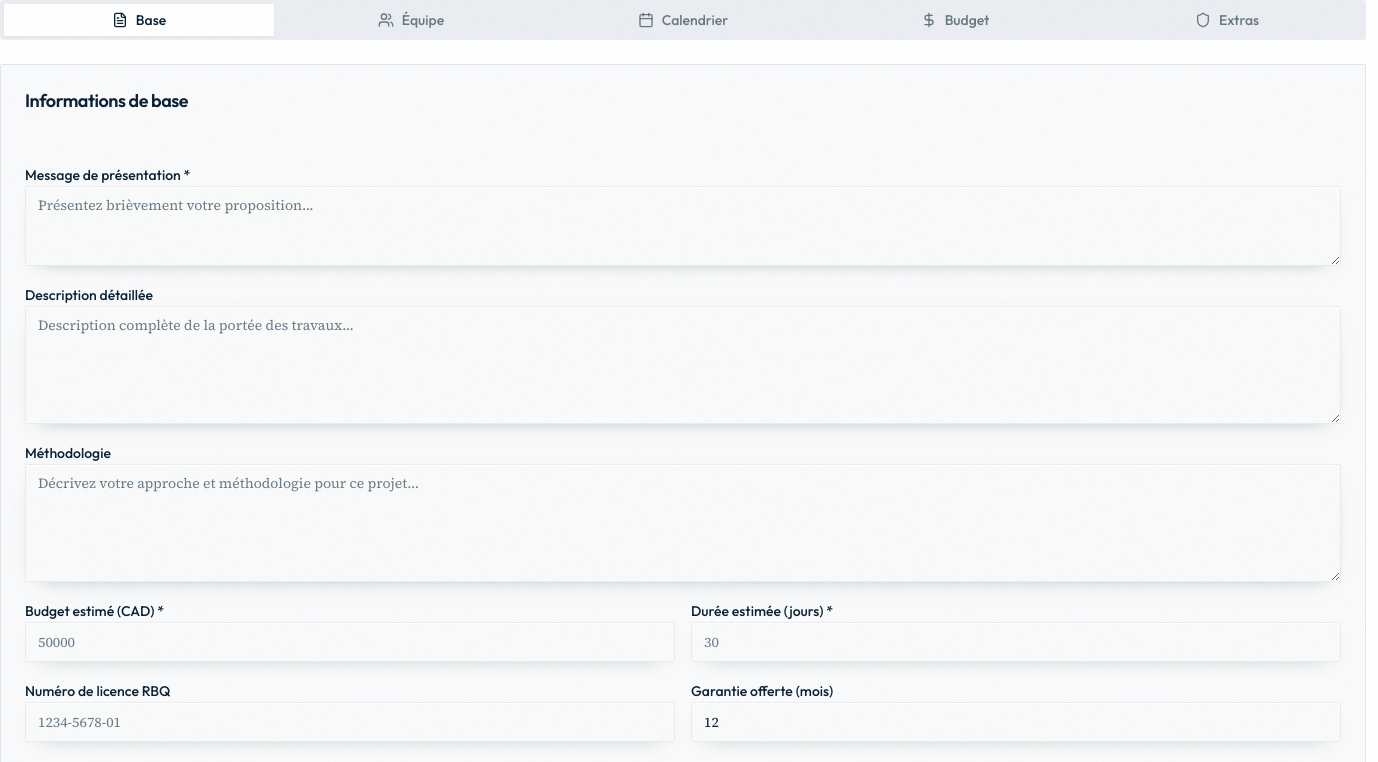
Test: Professional proposal submission › exposes labels for repeated team fields and removal actions
Type "Travaux de rénovation proposés" into the text box labelled "Message de présentation *".
click(683, 226); type("Travaux de rénovation proposés")  # box [25,186,1341,266]
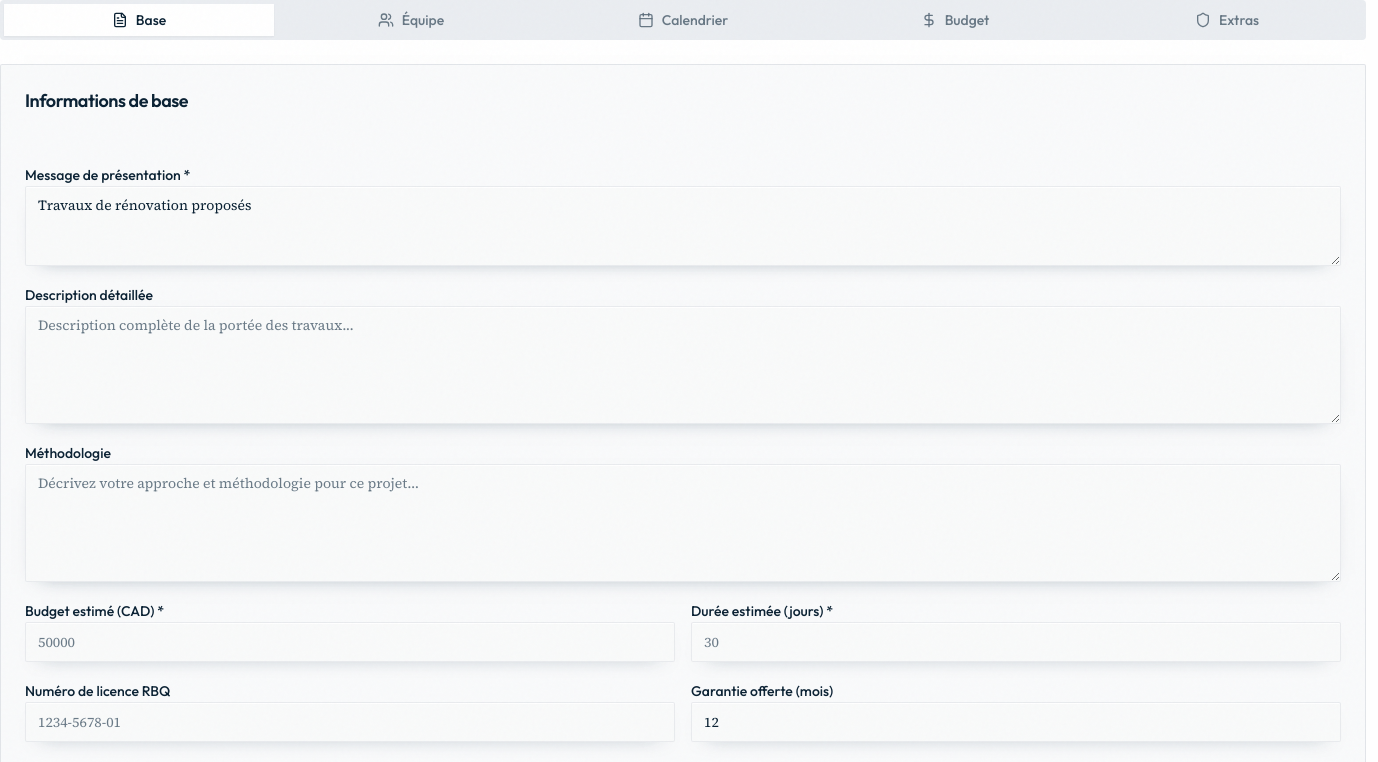
Type "7500" into the number field labelled "Budget estimé (CAD) *".
click(350, 642); type("7500")  # box [25,622,675,662]
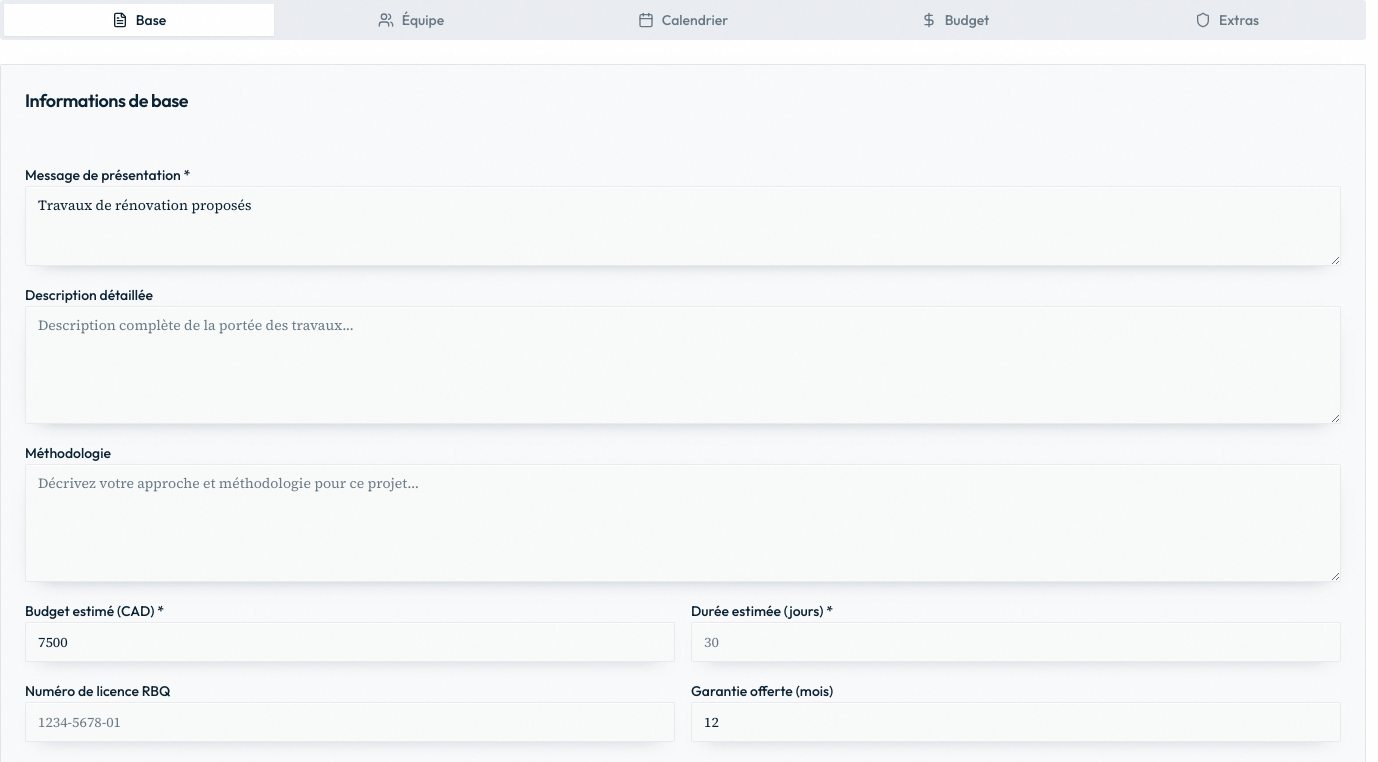
Type "10" into the number field labelled "Durée estimée (jours) *".
click(1016, 642); type("10")  # box [691,622,1341,662]
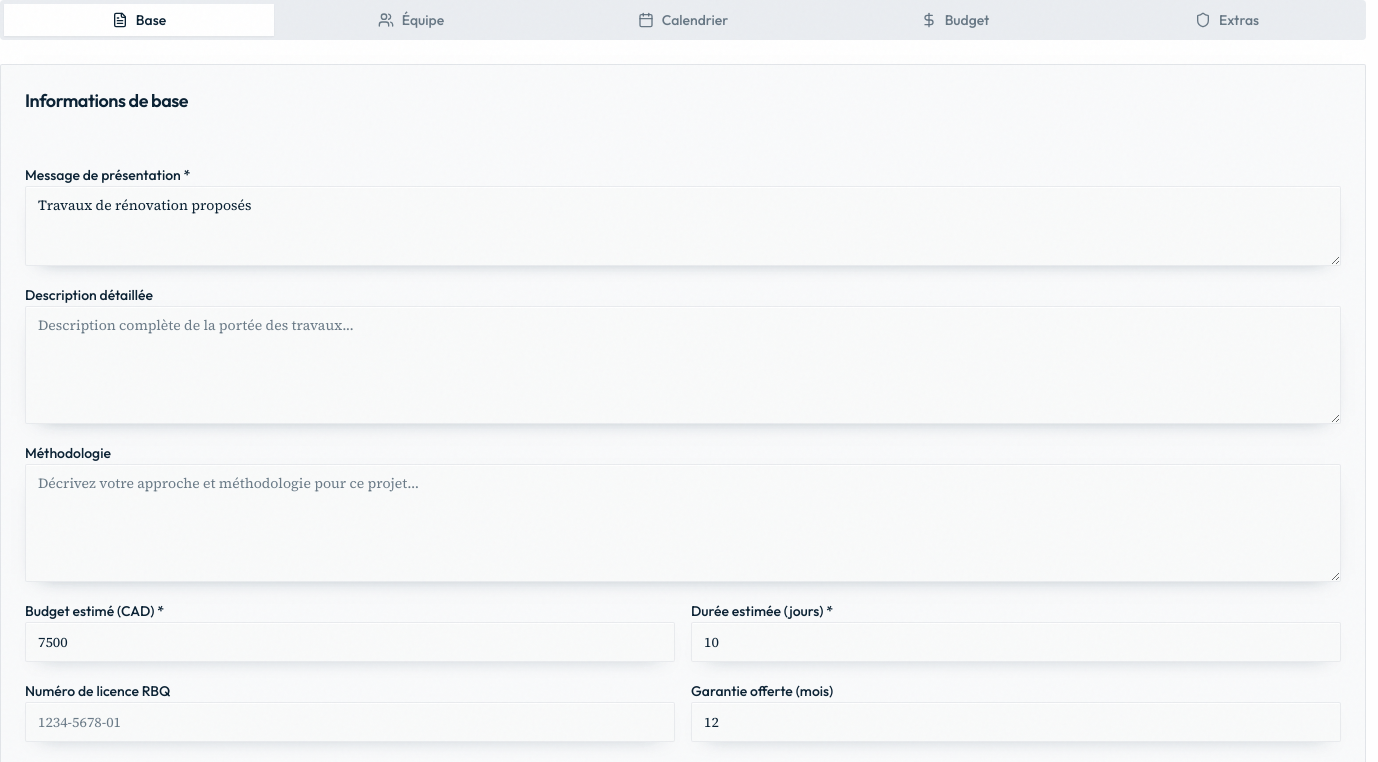
Click the tab "Équipe".
click(411, 20)  # box [276,4,546,36]
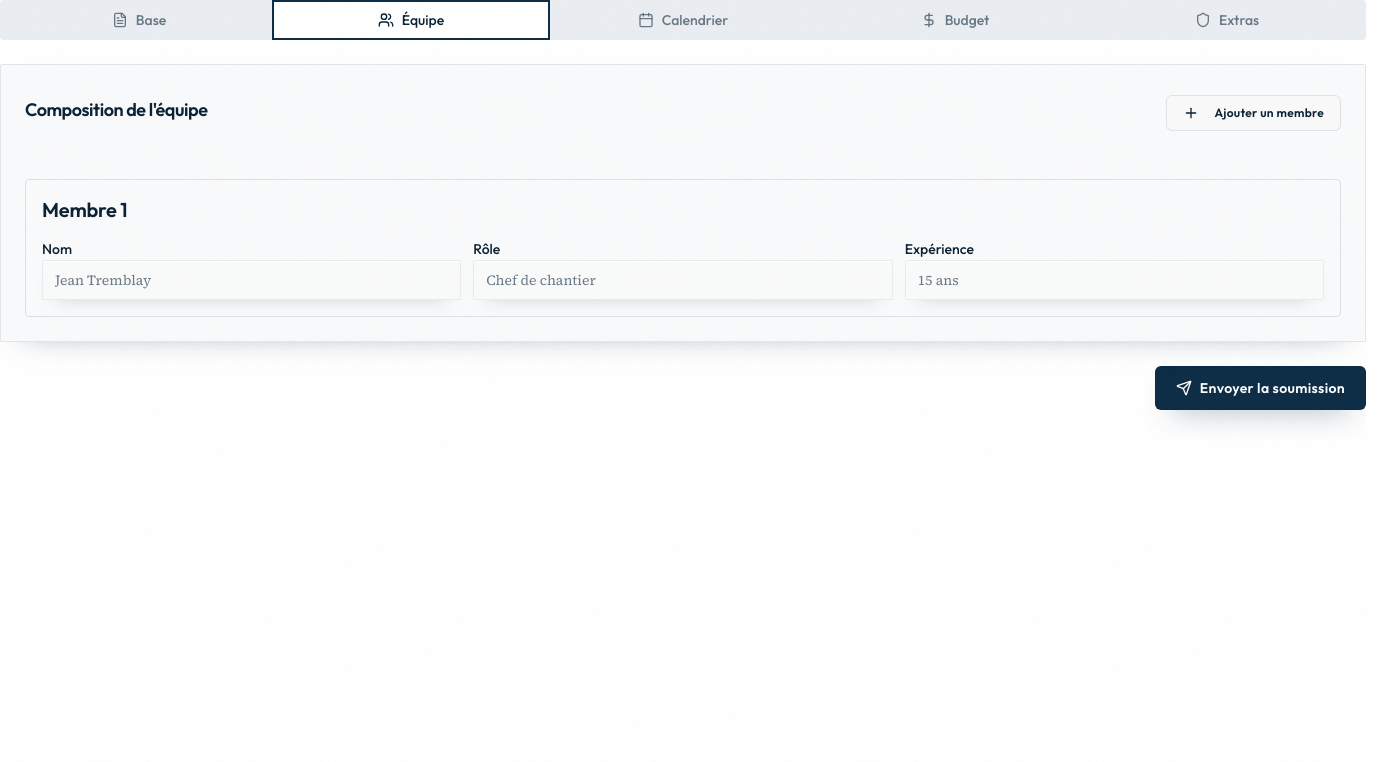
Expected: the field labelled "Nom" is shown, [42,260,461,300]
Expected: the field labelled "Rôle" is shown, [473,260,893,300]
Click the button "Ajouter un membre".
click(1253, 113)  # box [1166,95,1341,131]
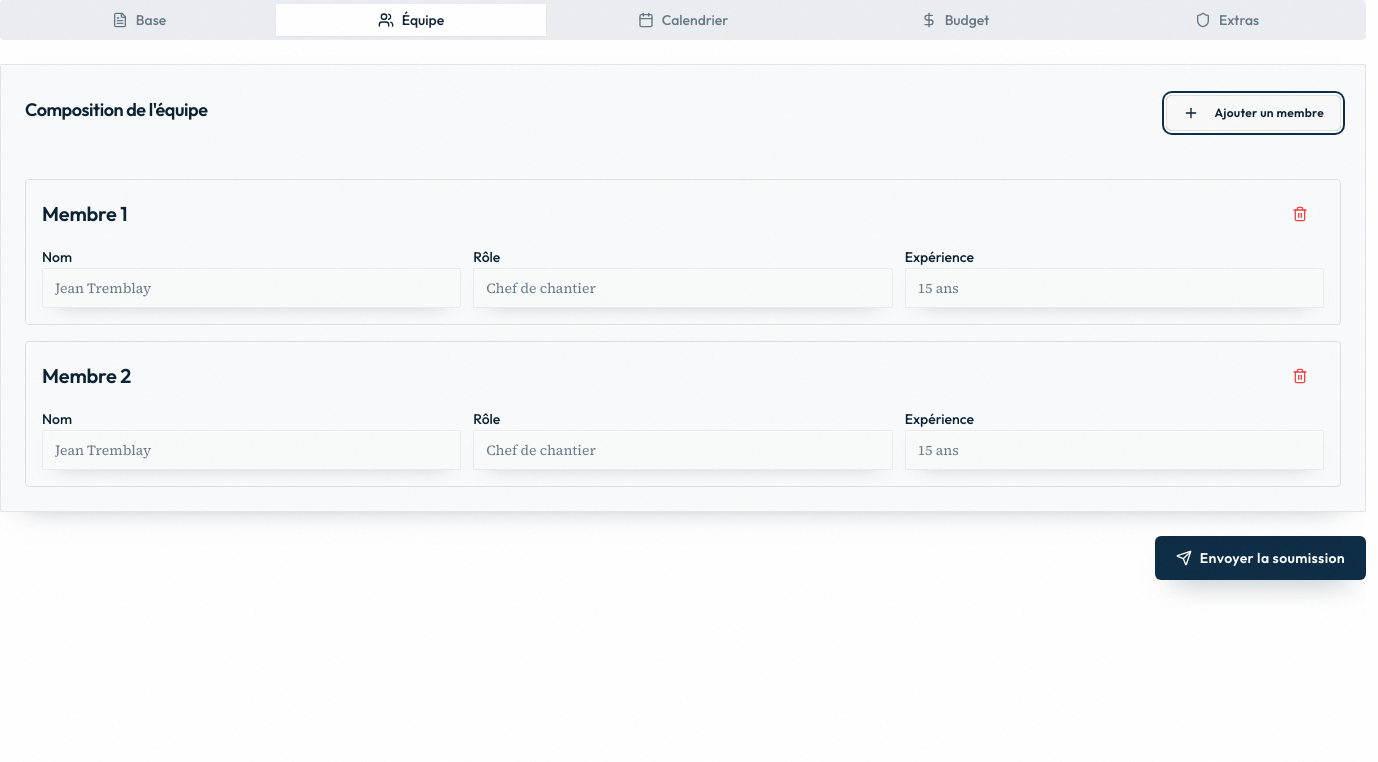
Expected: the number of fields labelled "Nom" is 2, [42,268,461,308]; [42,430,461,470]
Click the button named "Supprimer le membre 2".
click(1300, 376)  # box [1276,358,1324,394]
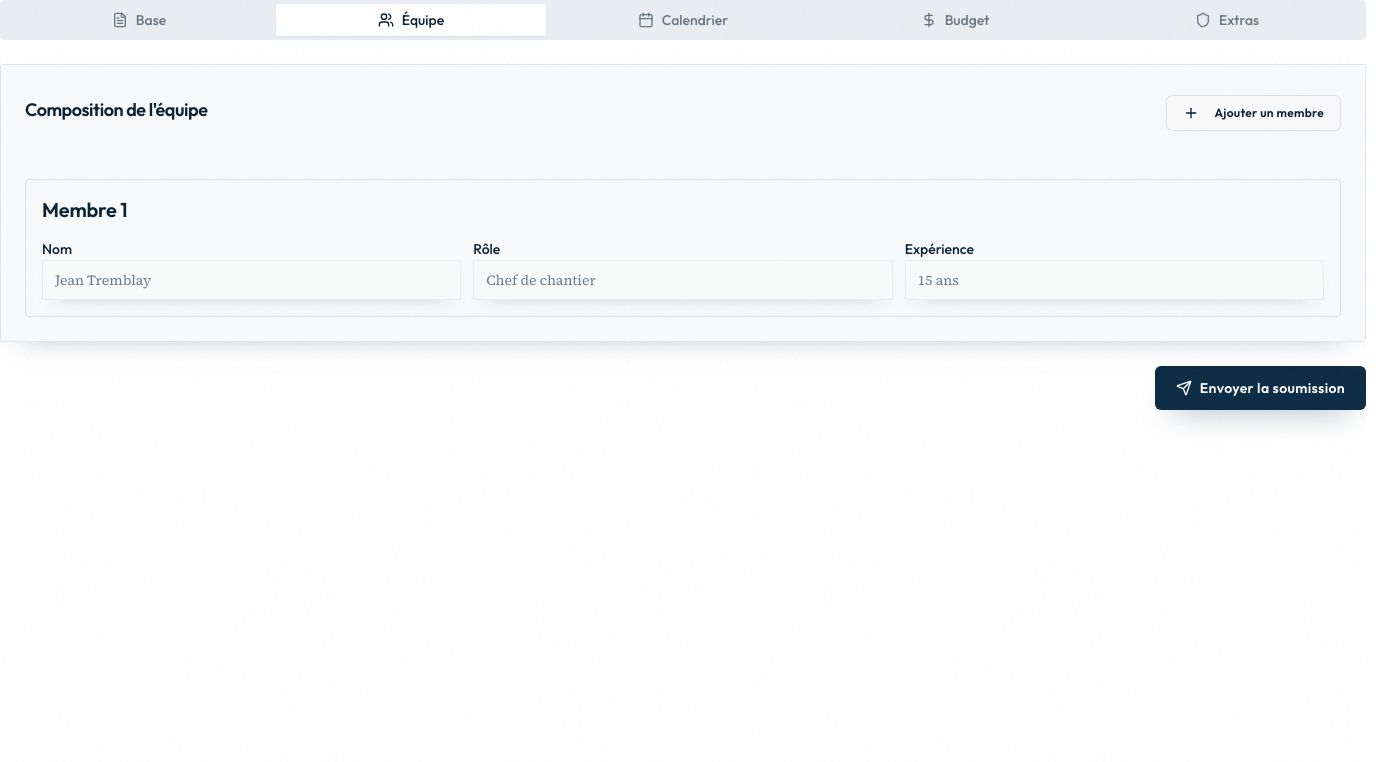
Expected: the number of fields labelled "Nom" is 1, [42,260,461,300]
